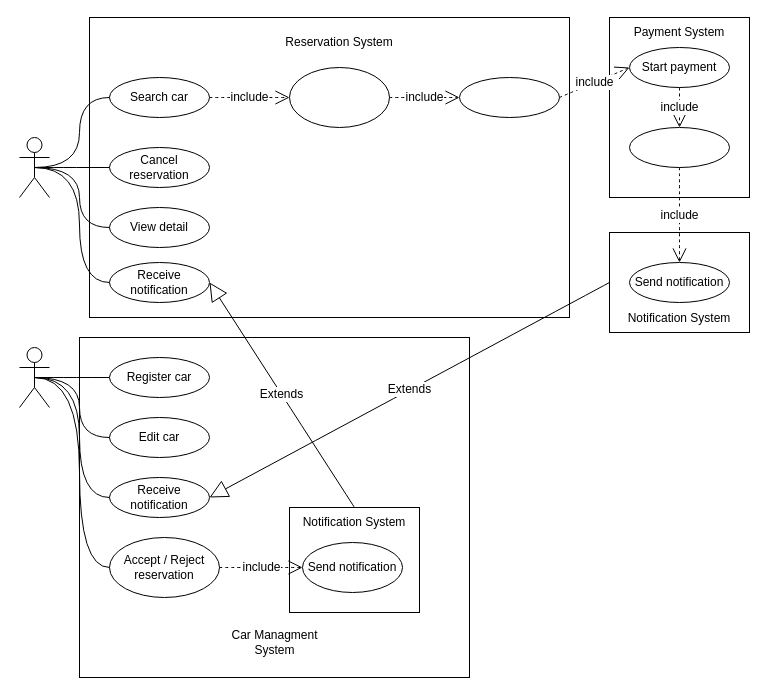
This 767x695 diagram has some shape labels left out. Each missing label, with the centre of its shape:
"Client" goes at [34,167].
"Create reservation" goes at [509,97].
"Owner" goes at [34,377].
"Process payment" goes at [679,147].
"Select car (Activate hold)" goes at [339,97].
